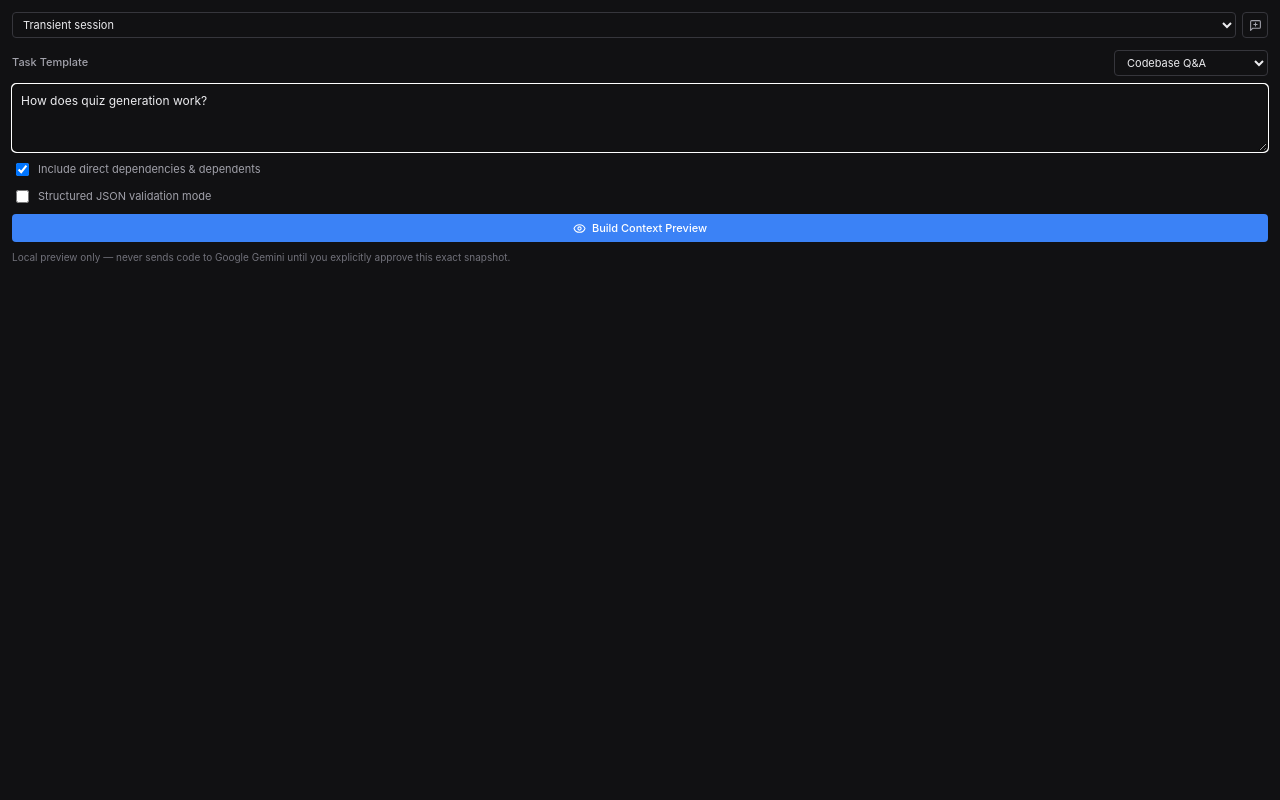
Milestone 5.3 — ContextPreviewPanel UI › supports manual Add Files picker and follow-up Missing Context Detected recovery with fresh approval
Earlier steps of the test are not shown.
Click the button "Build Context Preview" at coordinates (640, 228), box [12,214,1268,242]
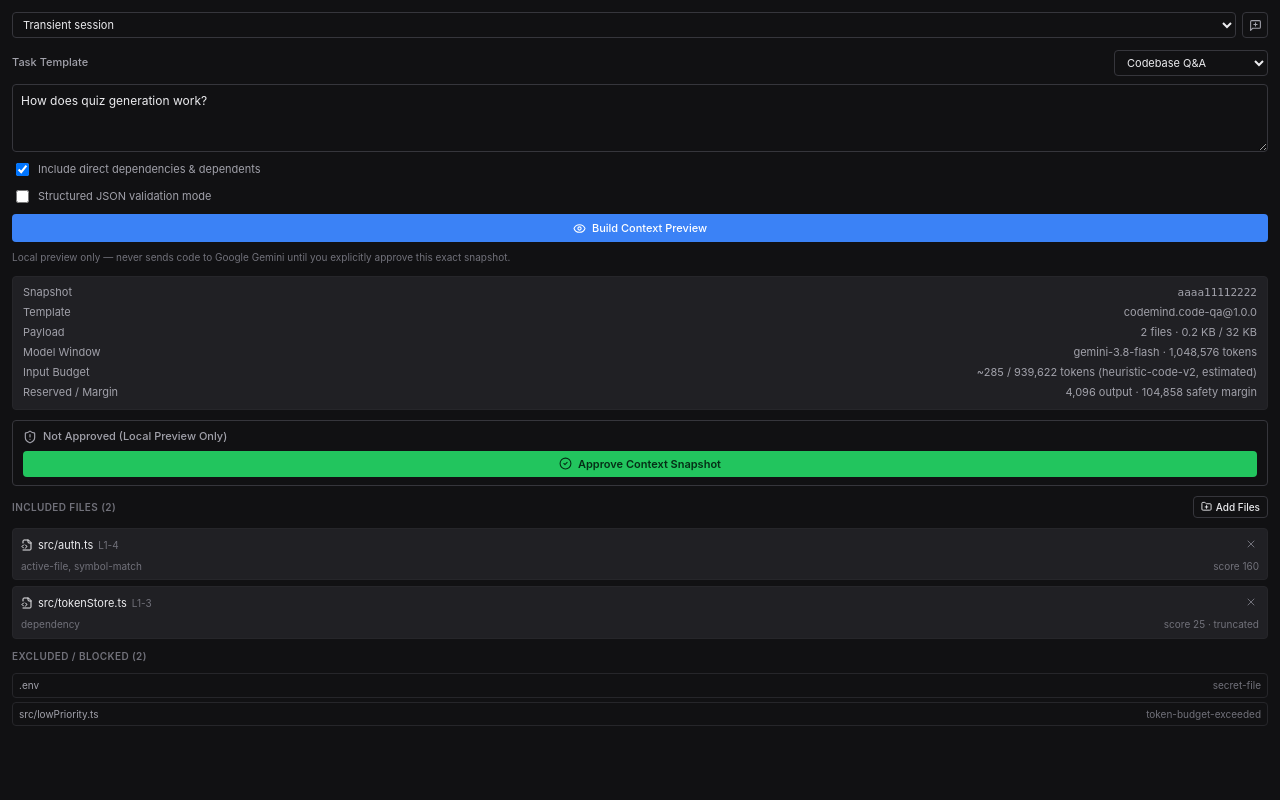
Expected: the element with test id "ai-context-snapshot" is shown, [12,276,1268,726]
// Open Add Files picker and verify secret file is shown as Blocked
Click the button with test id "ai-add-files-toggle" at coordinates (1230, 507), box [1193,496,1268,518]
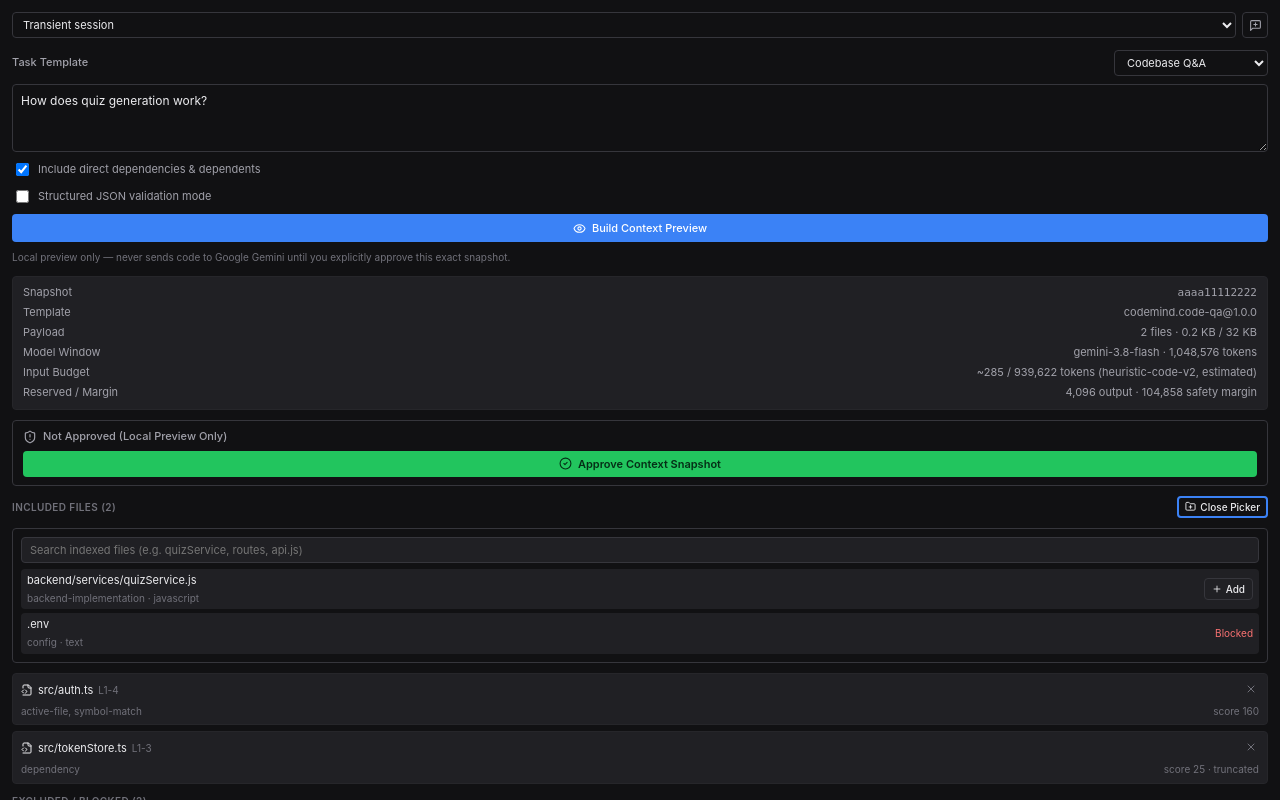
Expected: the element with test id "ai-add-files-picker" is shown, [12,528,1268,663]
Expected: the text "backend/services/quizService.js" is shown, [27,573,199,589]
Expected: the text "Blocked" is shown, [1215,626,1253,641]
// Manually add backend/services/quizService.js
Click the button with aria-label "Add backend/services/quizService.js" at coordinates (1228, 589), box [1204,578,1253,600]
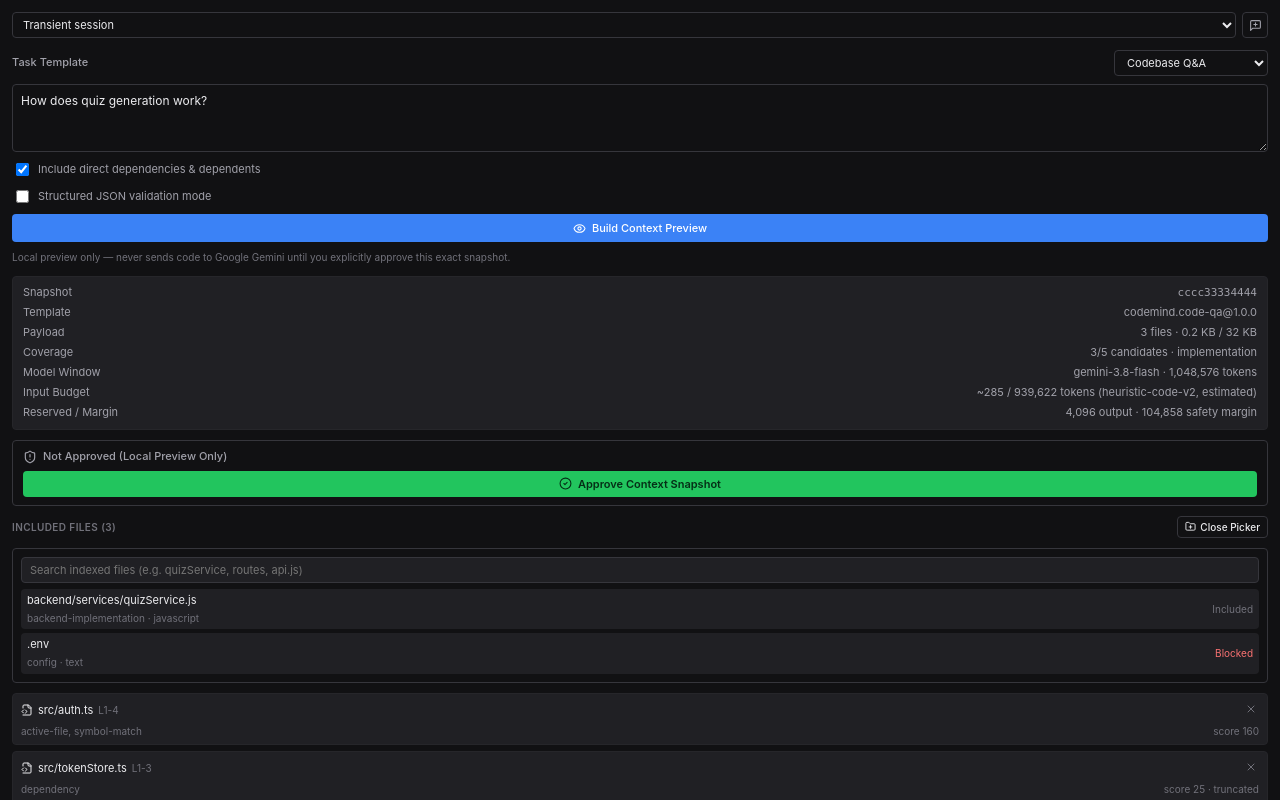
Expected: the text with test id "ai-snapshot-id" reads "cccc33334444", [1178,286,1257,299]
Expected: the text with test id "ai-coverage-summary" shows "3/5 candidates", [1090,345,1257,361]
// Approve and stream response mentioning a missing file
Click the button "Approve Context Snapshot" at coordinates (640, 484), box [23,471,1257,497]
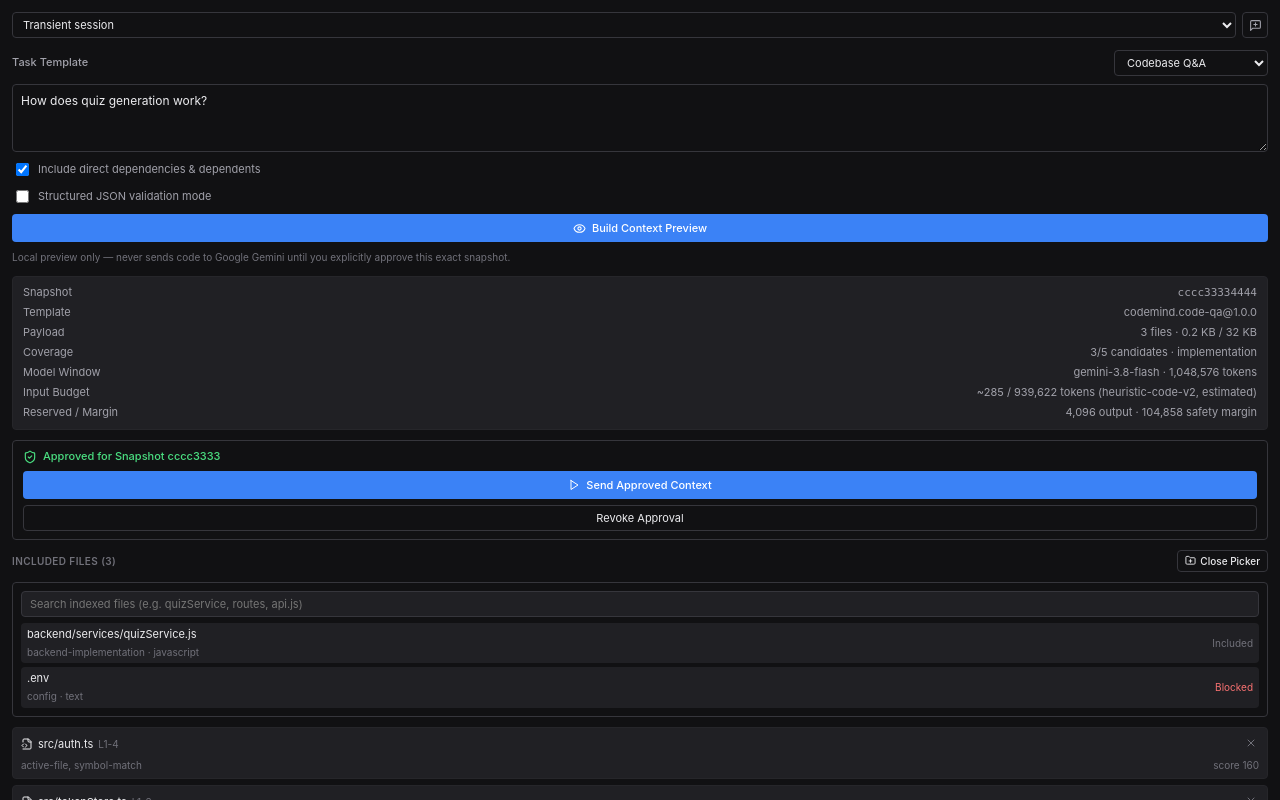
Expected: the button "Send Approved Context" is shown
Click the button "Send Approved Context" at coordinates (640, 485), box [23,471,1257,499]
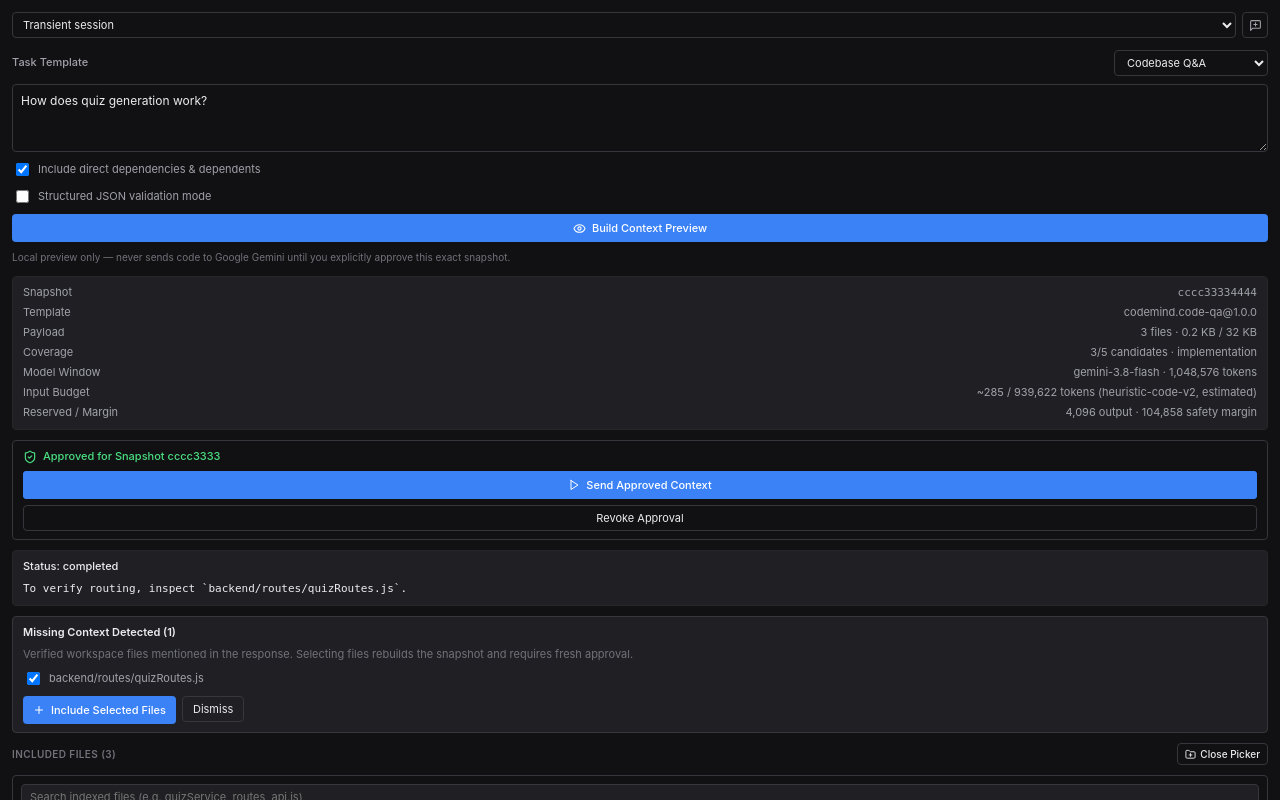
Expected: the element with test id "ai-missing-context-card" is shown, [12,616,1268,733]
Expected: the text "backend/routes/quizRoutes.js" is shown, [49,671,204,687]
// Include Selected Files rebuilds snapshot and resets approval to Not Approved
Click the button "Include Selected Files" at coordinates (99, 710), box [23,696,176,724]
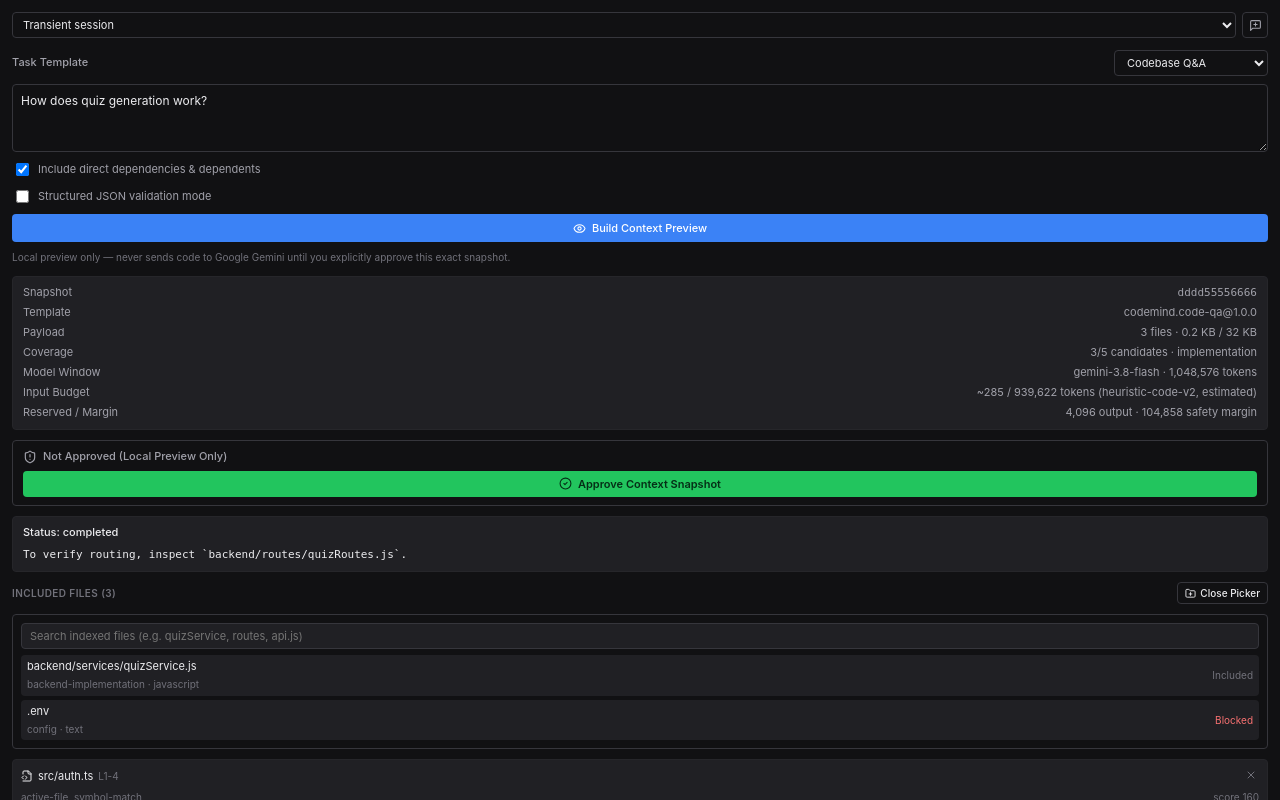
Expected: the text with test id "ai-snapshot-id" reads "dddd55556666", [1178,286,1257,299]
Expected: the element with test id "ai-approval-status" shows "Not Approved", [43,449,227,463]
